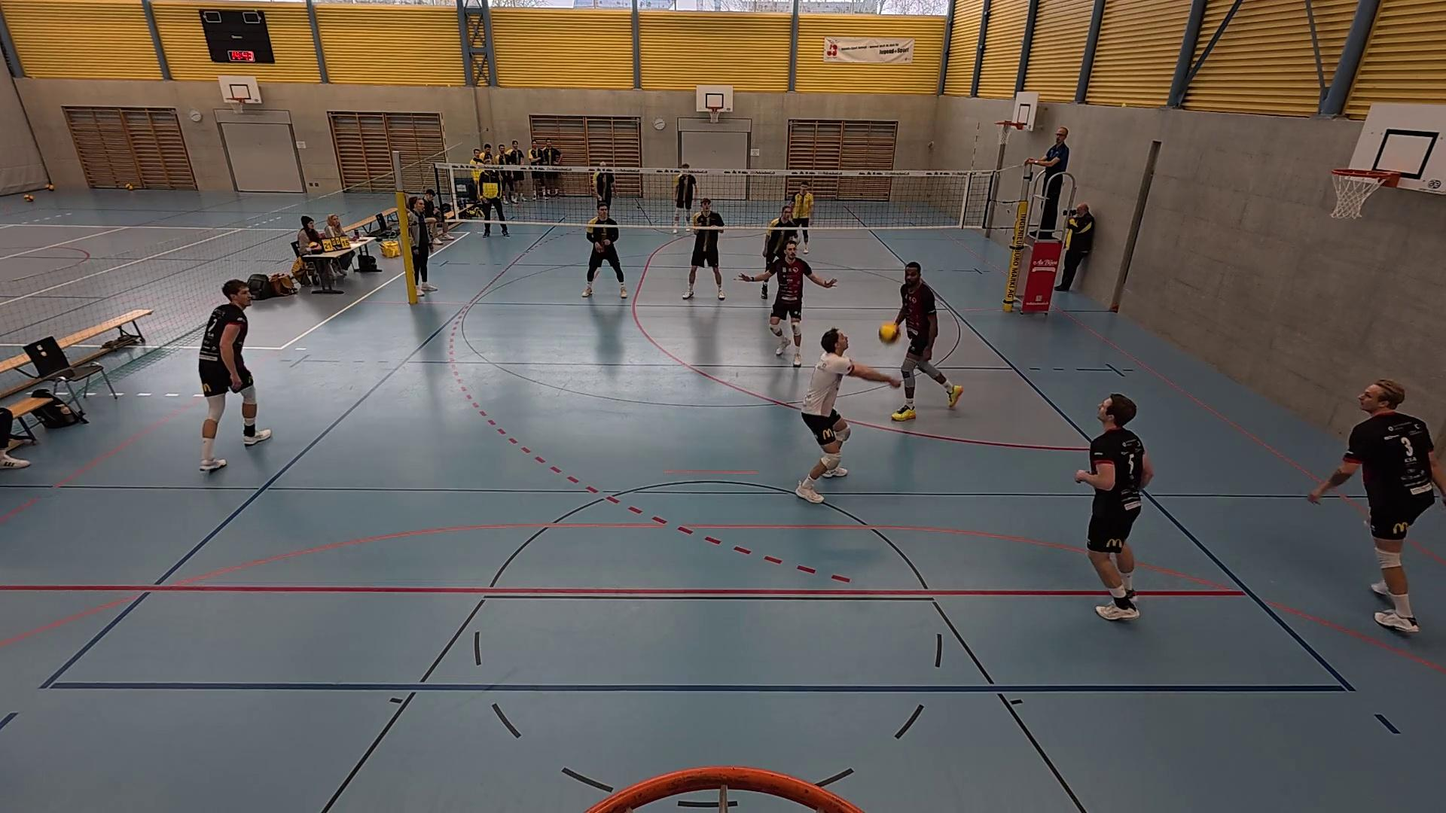alzata: (791, 326, 900, 507)
